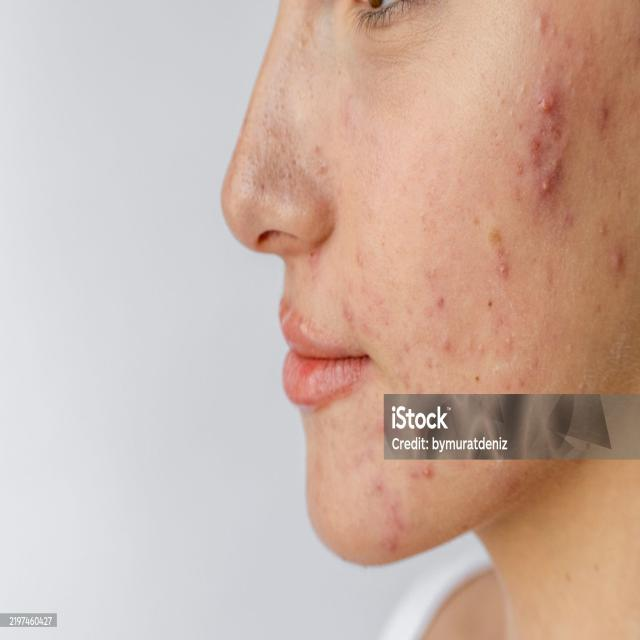papule: (390, 306, 436, 395), (357, 280, 393, 343), (350, 411, 384, 469), (380, 495, 408, 558), (524, 127, 554, 177), (528, 0, 562, 41), (591, 90, 618, 136), (606, 245, 628, 282), (340, 297, 358, 327), (440, 329, 457, 358), (433, 288, 450, 315), (354, 247, 367, 273)
pustule: (532, 83, 562, 123), (419, 461, 438, 485), (536, 176, 552, 197), (593, 222, 609, 240), (373, 475, 385, 492), (498, 258, 508, 278)
